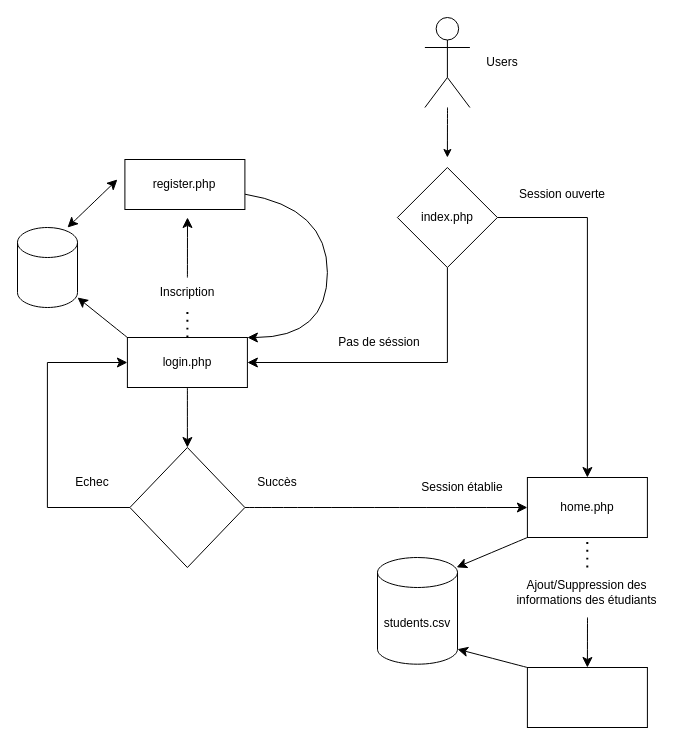
The diagram is 682 pixels wide and 745 high, and some of its shapes have lost their labels. Each missing label, with the box of its shape:
Authentification: (129, 446, 245, 568)
student.php: (526, 666, 647, 728)
users.csv: (16, 226, 78, 308)
